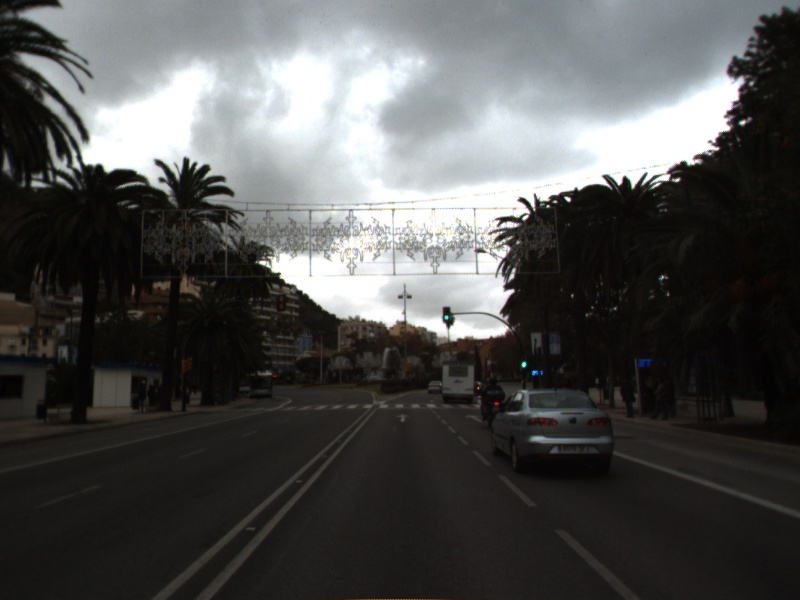STRAIGHT: (393, 411, 413, 424), (463, 412, 484, 424)
